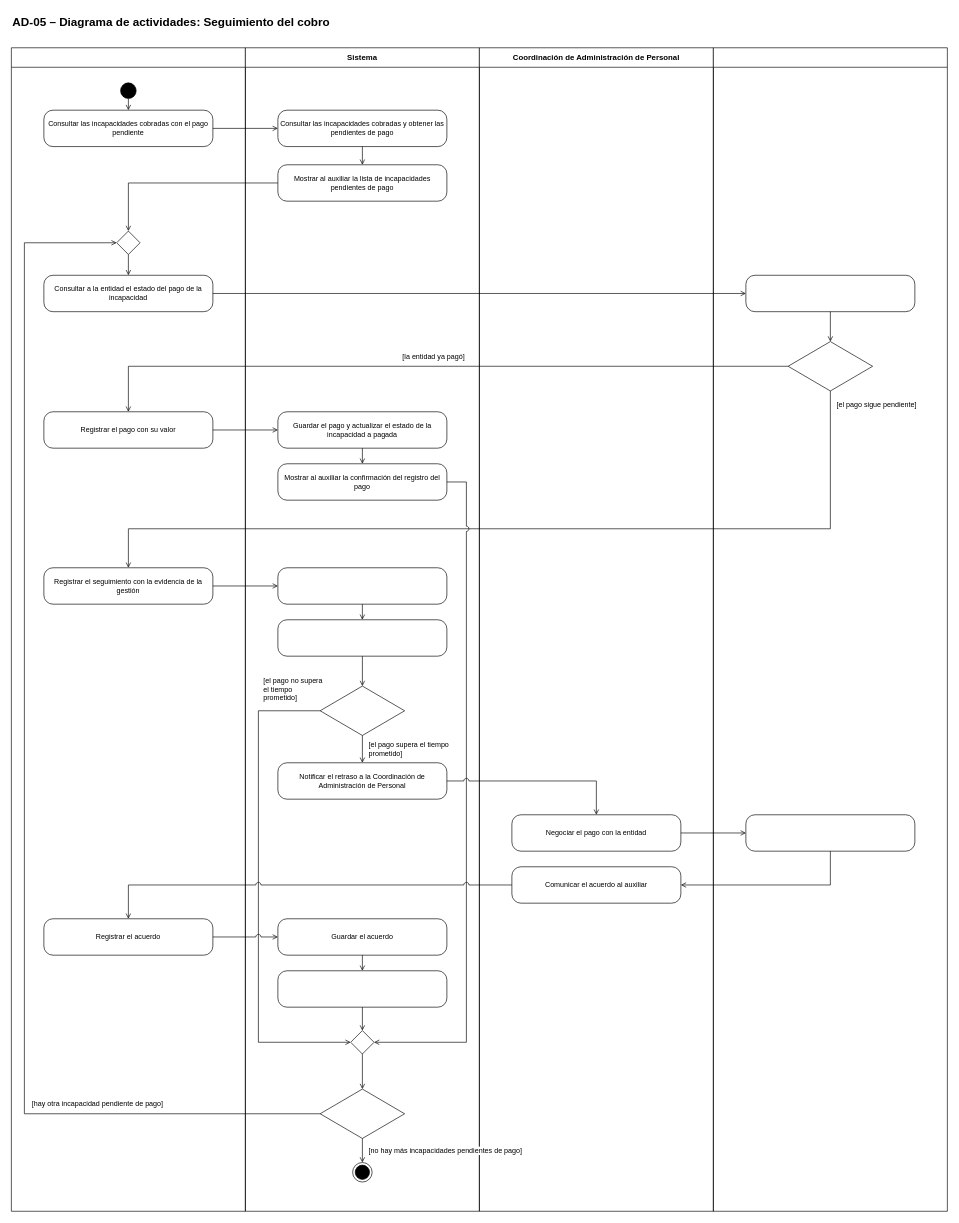
Image size: 959x1223. Some labels were removed from this diagram. Each missing label, with the box of its shape:
Acordar con la Coordinación la fecha y el valor del pago: (745, 814, 915, 851)
Auxiliar de Administración de Personal: (11, 47, 245, 1211)
EPS / ARL (entidad): (713, 47, 947, 1211)
Guardar el seguimiento y evaluar si hay demora en el pago: (277, 567, 447, 604)
Informar al auxiliar el estado del pago y el valor pagado: (745, 275, 915, 312)
Mostrar al auxiliar la confirmación del registro del acuerdo: (277, 970, 447, 1007)
Mostrar al auxiliar la confirmación del registro del seguimiento: (277, 619, 447, 656)
